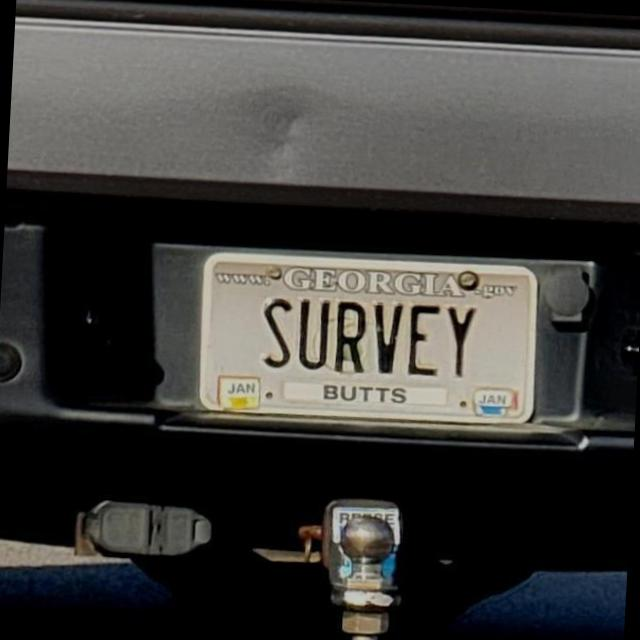LicensePlate: (194, 252, 540, 422)
